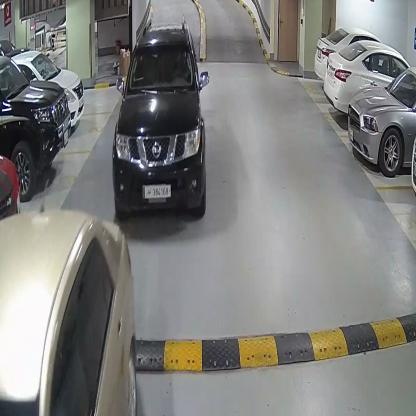np: (141, 184, 171, 198)
